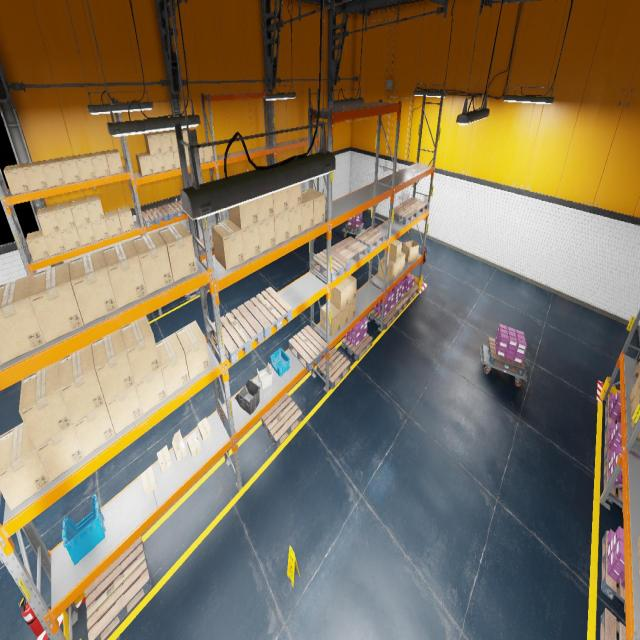box: (19, 361, 72, 448), (29, 262, 84, 343), (0, 423, 50, 510), (0, 275, 45, 364), (58, 344, 105, 424), (69, 250, 117, 325), (91, 329, 135, 402), (102, 240, 147, 309), (120, 316, 161, 384), (36, 425, 84, 482), (131, 231, 173, 295), (73, 401, 115, 456), (158, 223, 197, 281), (156, 332, 189, 397), (176, 320, 210, 380), (106, 384, 143, 434), (211, 219, 244, 270), (135, 368, 167, 414), (228, 199, 258, 229), (301, 188, 325, 225), (3, 163, 30, 194), (23, 160, 48, 190), (26, 230, 50, 261), (37, 205, 60, 236), (320, 302, 340, 337), (242, 223, 260, 261), (54, 202, 76, 231), (42, 158, 64, 187), (74, 153, 96, 181), (58, 156, 80, 184), (259, 216, 275, 253), (84, 195, 105, 222), (70, 198, 90, 226), (330, 281, 349, 310), (89, 151, 110, 177), (274, 210, 289, 246), (301, 193, 314, 232), (44, 232, 66, 255), (172, 429, 187, 462), (116, 206, 135, 232), (257, 193, 274, 222), (140, 466, 156, 496), (61, 227, 81, 251), (104, 150, 124, 174), (288, 204, 302, 238), (104, 210, 122, 236), (135, 152, 154, 176), (378, 256, 395, 282), (76, 223, 96, 245), (157, 445, 172, 473), (273, 188, 288, 216), (384, 239, 402, 262), (144, 132, 162, 155), (91, 218, 109, 240), (343, 275, 357, 303), (402, 240, 419, 262), (187, 432, 201, 458), (156, 131, 172, 153), (198, 417, 212, 442), (288, 183, 301, 209), (334, 304, 348, 328), (630, 373, 640, 406), (385, 257, 400, 278), (630, 388, 640, 418), (198, 142, 213, 162), (632, 403, 640, 439), (150, 154, 164, 173), (166, 130, 178, 150), (162, 152, 175, 170), (348, 298, 356, 321), (633, 358, 640, 378), (400, 252, 406, 273), (173, 150, 180, 168), (182, 128, 188, 149), (198, 144, 204, 163), (185, 149, 189, 166), (638, 536, 640, 565), (639, 565, 640, 575), (0, 360, 2, 365)
pallets: (85, 536, 151, 639), (212, 304, 264, 364), (244, 287, 292, 338), (261, 392, 302, 448), (601, 530, 625, 613), (289, 324, 328, 372), (316, 347, 351, 389), (488, 337, 524, 376), (314, 248, 350, 282), (603, 454, 623, 512), (331, 237, 367, 266), (342, 333, 372, 361), (600, 608, 626, 640), (355, 227, 385, 252), (370, 307, 398, 329), (389, 204, 418, 224), (142, 206, 168, 228), (162, 200, 187, 220), (402, 197, 428, 216), (605, 397, 618, 429), (184, 284, 208, 300), (604, 423, 613, 461), (393, 295, 409, 315), (404, 284, 419, 303), (199, 236, 214, 252), (346, 222, 364, 234), (199, 245, 203, 256), (208, 284, 209, 289)
